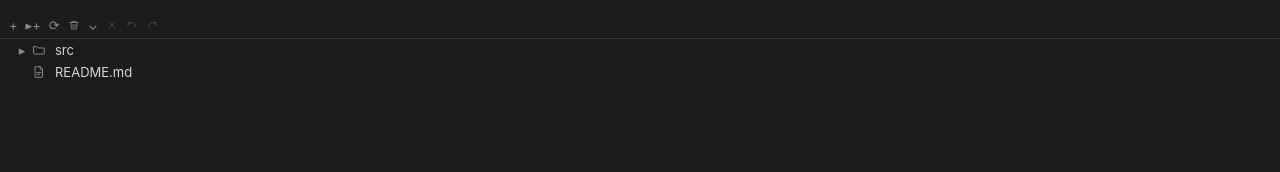
Test: Explorer › opens inline rename on a slow second click of a selected file
What coordinates should you click on to do the following:
click the list item "README.md"
I would click on:
 (94, 72)
Its box is left=8, top=61, right=1272, bottom=83.
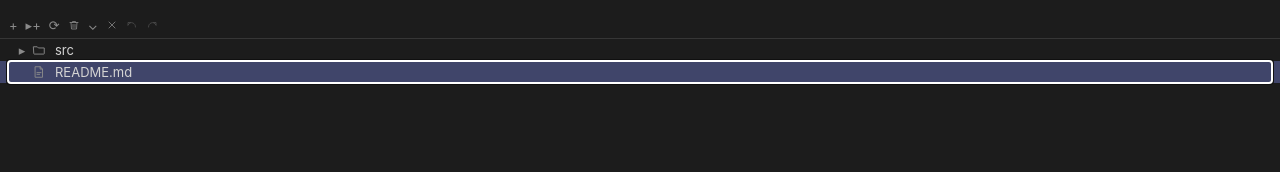
What coordinates should you click on to do the following:
click the list item "README.md"
I would click on:
 (94, 72)
Its box is left=8, top=61, right=1272, bottom=83.
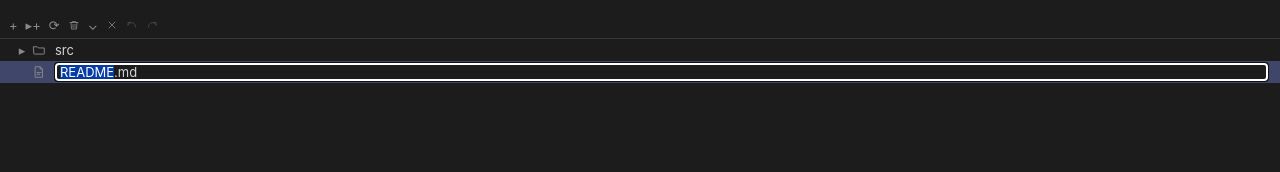
Expected: the field named "New name" is shown, left=55, top=63, right=1268, bottom=81
